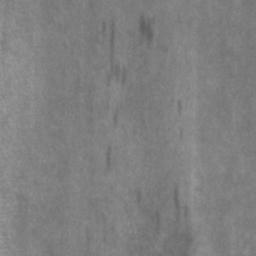Inclusion: (140, 17, 156, 42)
